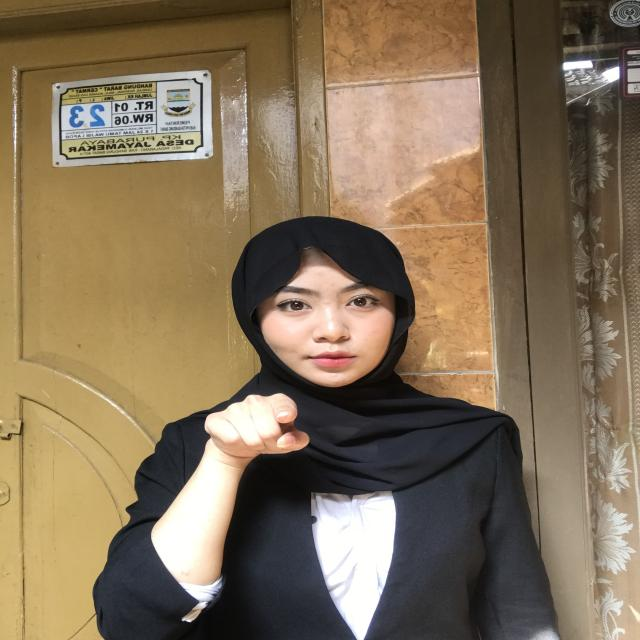kamu: (193, 388, 334, 487)
